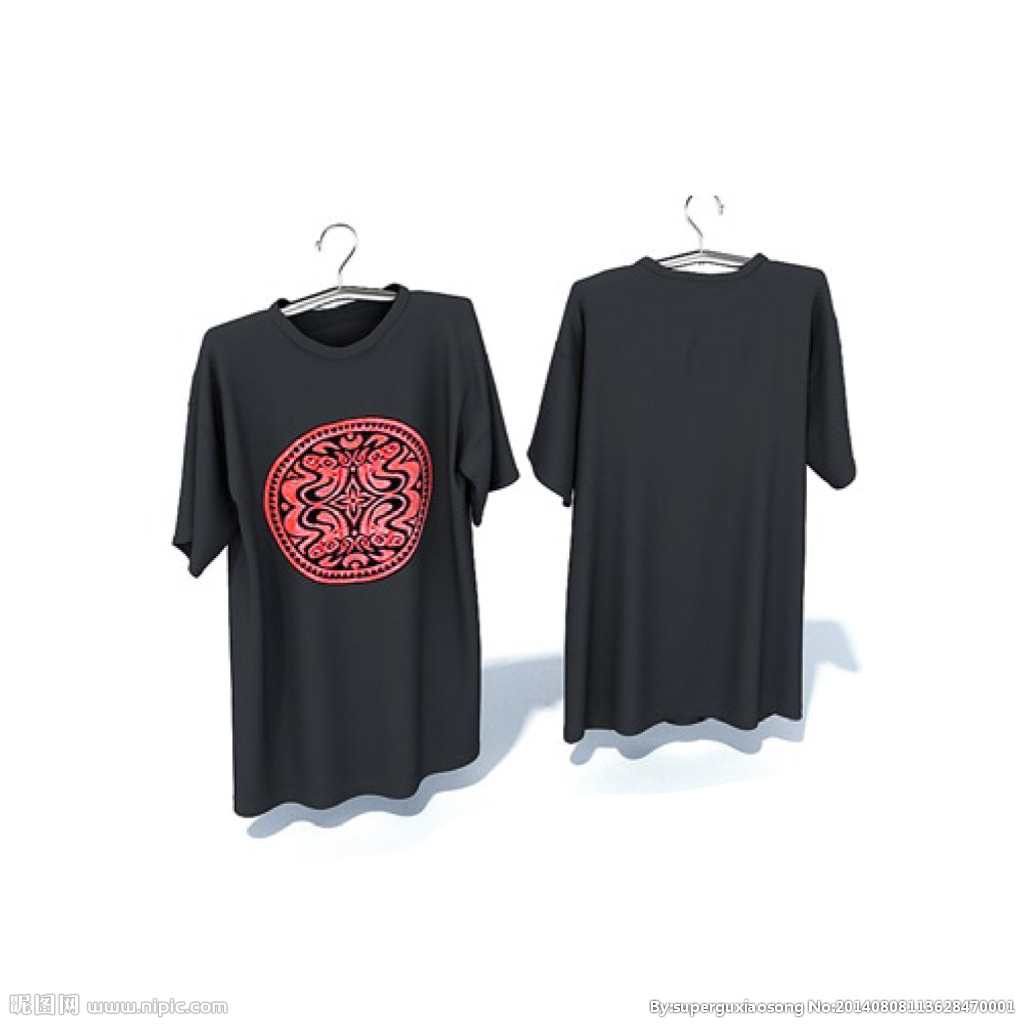flexible: (176, 281, 522, 825), (529, 257, 862, 744)
